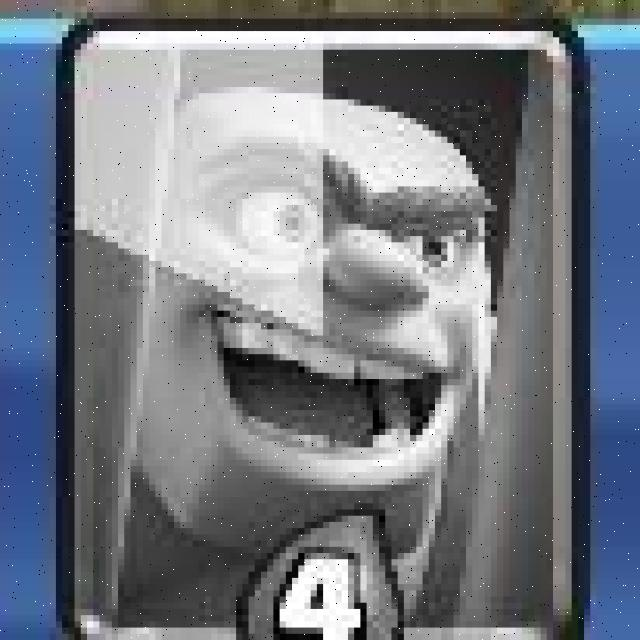Goblin_Cage: (57, 20, 589, 640)
